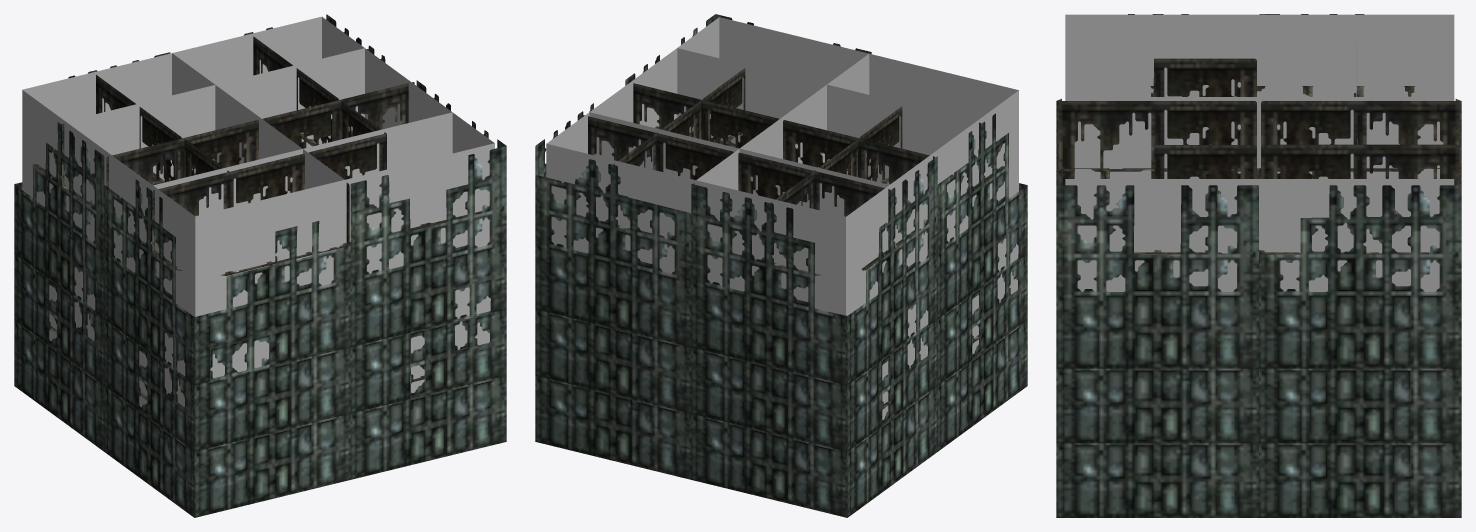
File: BGBLD02.FBX
3 views of the same model, side by side, from view 1: azimuth 30°, elevation 25°; view 2: azimuth 150°, elevation 25°; view 3: azimuth 270°, elevation 25° (orthographic). The views are drawn at different scales.
Parts seen in each view (by area): view 1: BGBLD02:4, BGBLD02_LOD:0; view 2: BGBLD02:4, BGBLD02_LOD:0; view 3: BGBLD02:4, BGBLD02_LOD:0.
Boxes of the visible parts, box(x1,y1,x2,y2) form: BGBLD02:4: box(14, 14, 506, 517); BGBLD02_LOD:0: box(22, 16, 494, 407); BGBLD02:4: box(535, 14, 1027, 517); BGBLD02_LOD:0: box(546, 17, 1018, 419); BGBLD02:4: box(1056, 14, 1461, 517); BGBLD02_LOD:0: box(1065, 14, 1454, 291).
Size of the model in its own units: 16.09 by 14.66 by 16.09.
